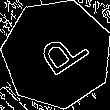P_SW: (26, 25, 88, 83)
